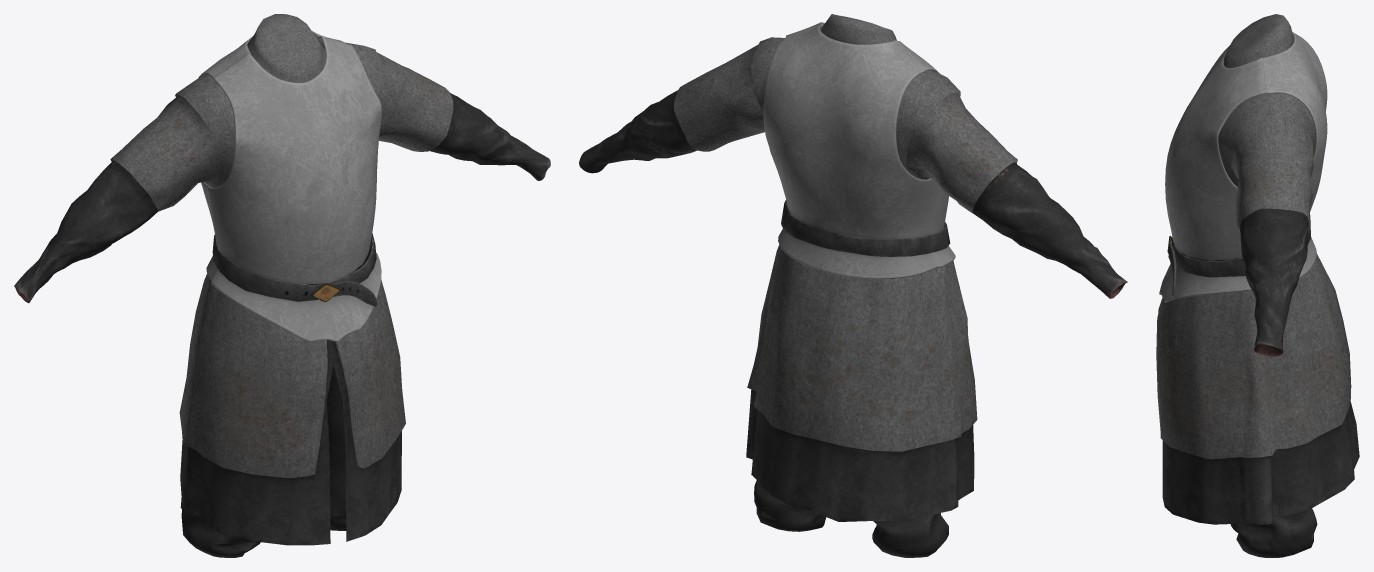
The model's file is pg_spearman_armor_02.fbx.
The picture shows the model from 3 angles, left to right: view 1: azimuth 30°, elevation 25°; view 2: azimuth 150°, elevation 25°; view 3: azimuth 270°, elevation 25°; orthographic projection. The views are drawn at different scales.
Visible parts, largest first — view 1: pg_spearman_armor_02; view 2: pg_spearman_armor_02; view 3: pg_spearman_armor_02.
Part boxes in pixels (bbox=[...]): pg_spearman_armor_02: bbox=[14, 14, 550, 557]; pg_spearman_armor_02: bbox=[579, 14, 1127, 557]; pg_spearman_armor_02: bbox=[1156, 14, 1359, 557].
Bounding box in the file's own units: 1.34 × 0.4518 × 1.23.
1 material, 1 textured.
